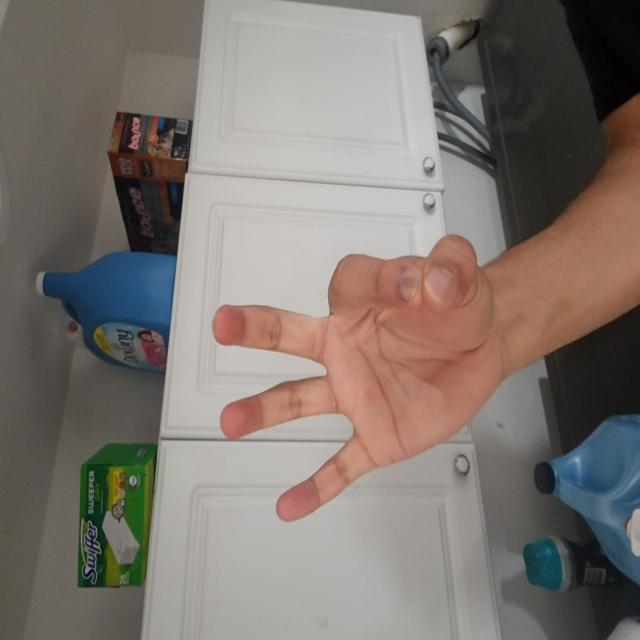F: (84, 281, 308, 640)
